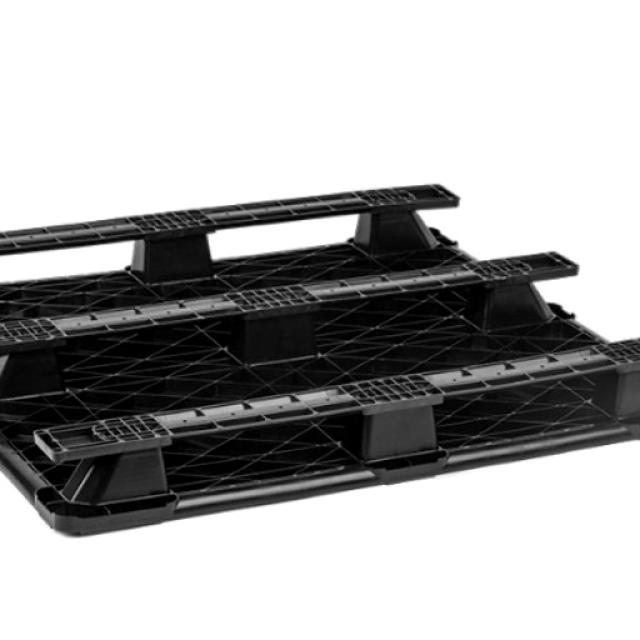non-igps: (0, 177, 640, 544)
